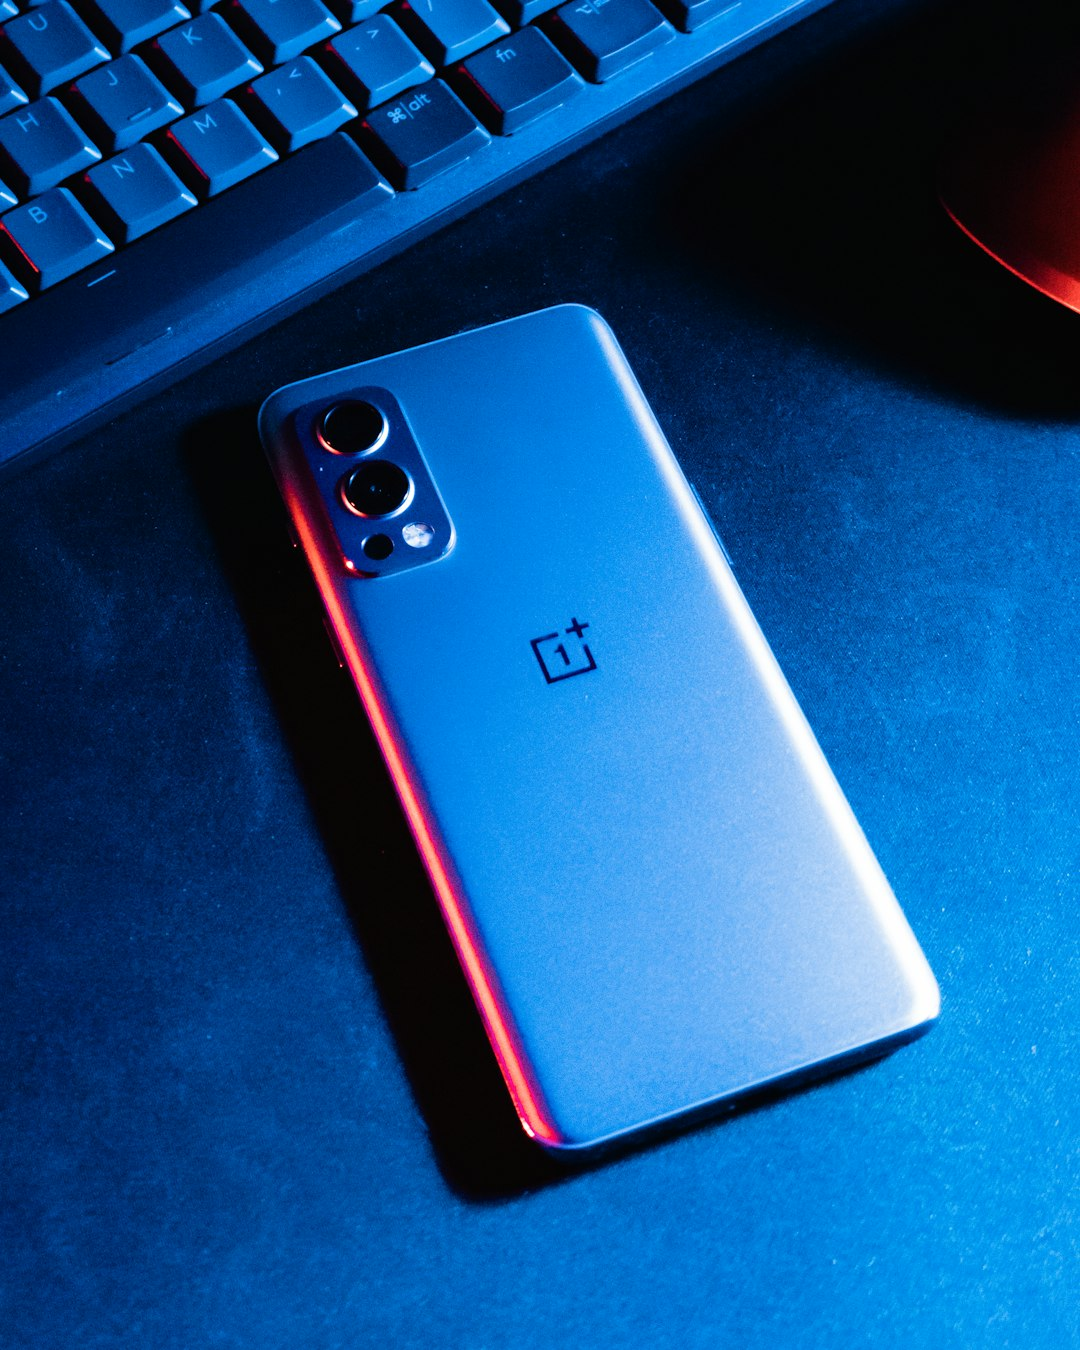phone: (252, 301, 942, 1162)
